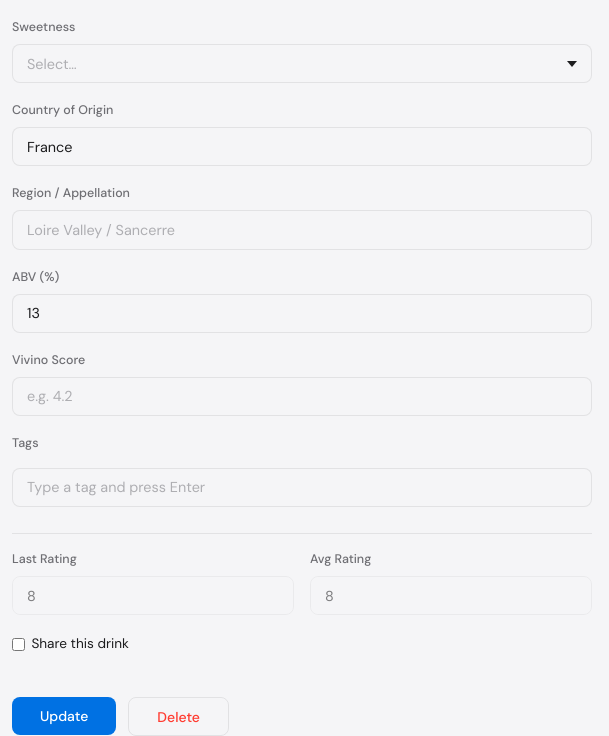
Scenario: shows error message when delete fails (res.ok false on DELETE)
(page scrolled)
Click the button "Delete" at (179, 717), box [128,697,229,735]
(page scrolled)
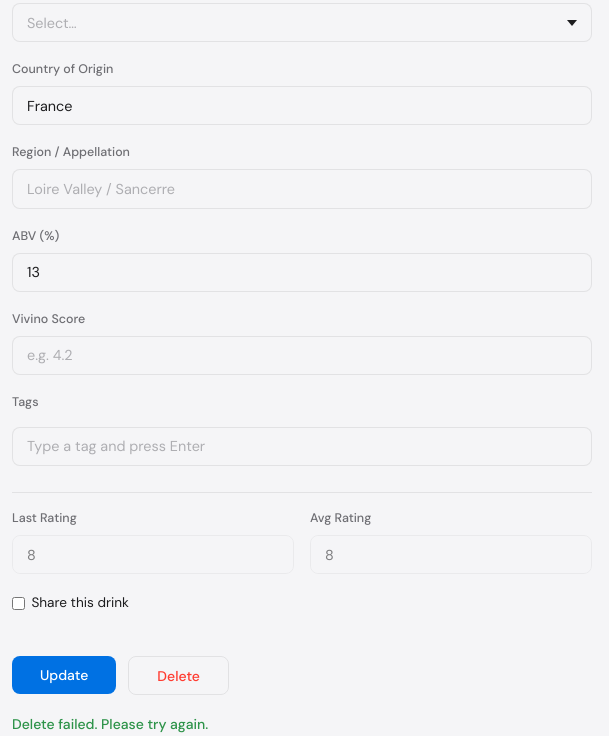
expect the text "Delete failed. Please try again." is shown: met, box [12,715,208,733]
